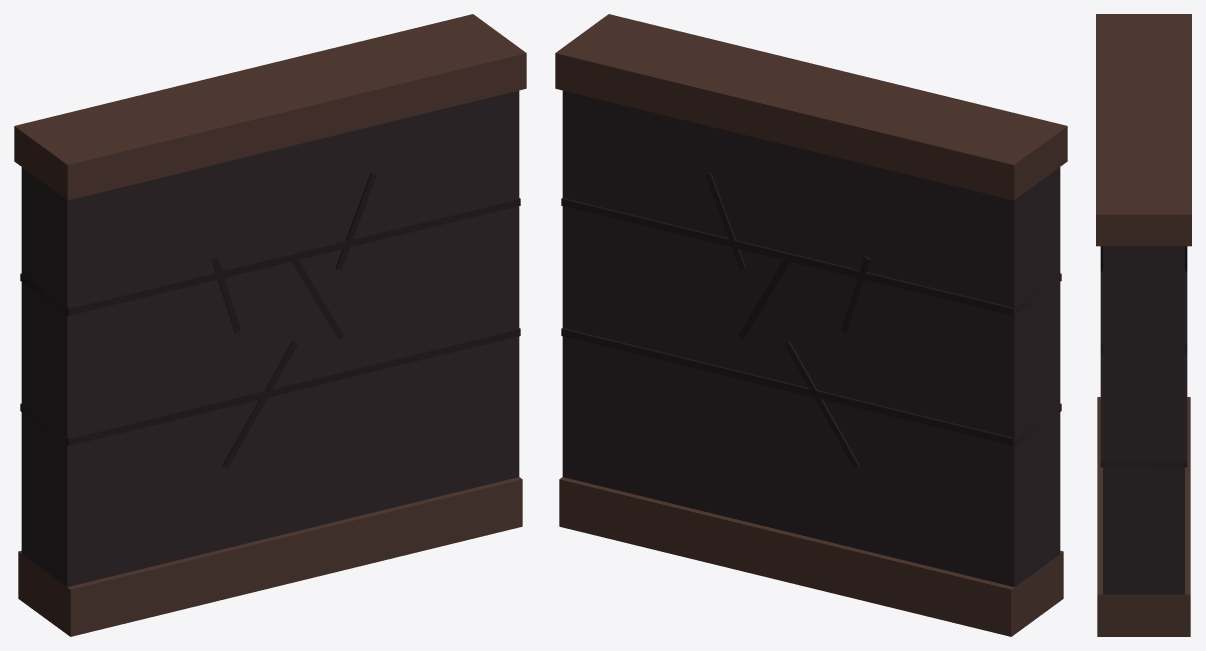
File: wall_secret_4m.glb
3 views of the same model, side by side, from view 1: azimuth 30°, elevation 25°; view 2: azimuth 150°, elevation 25°; view 3: azimuth 270°, elevation 25° (orthographic). The views are drawn at different scales.
Parts seen in each view (by area): view 1: wall_secret_4m; view 2: wall_secret_4m; view 3: wall_secret_4m.
Boxes of the visible parts, box(x1,y1,x2,y2) form: wall_secret_4m: box(14, 14, 526, 636); wall_secret_4m: box(555, 14, 1067, 636); wall_secret_4m: box(1096, 14, 1191, 636).
Bounding box in the file's own units: 4.06 × 4 × 0.82.
